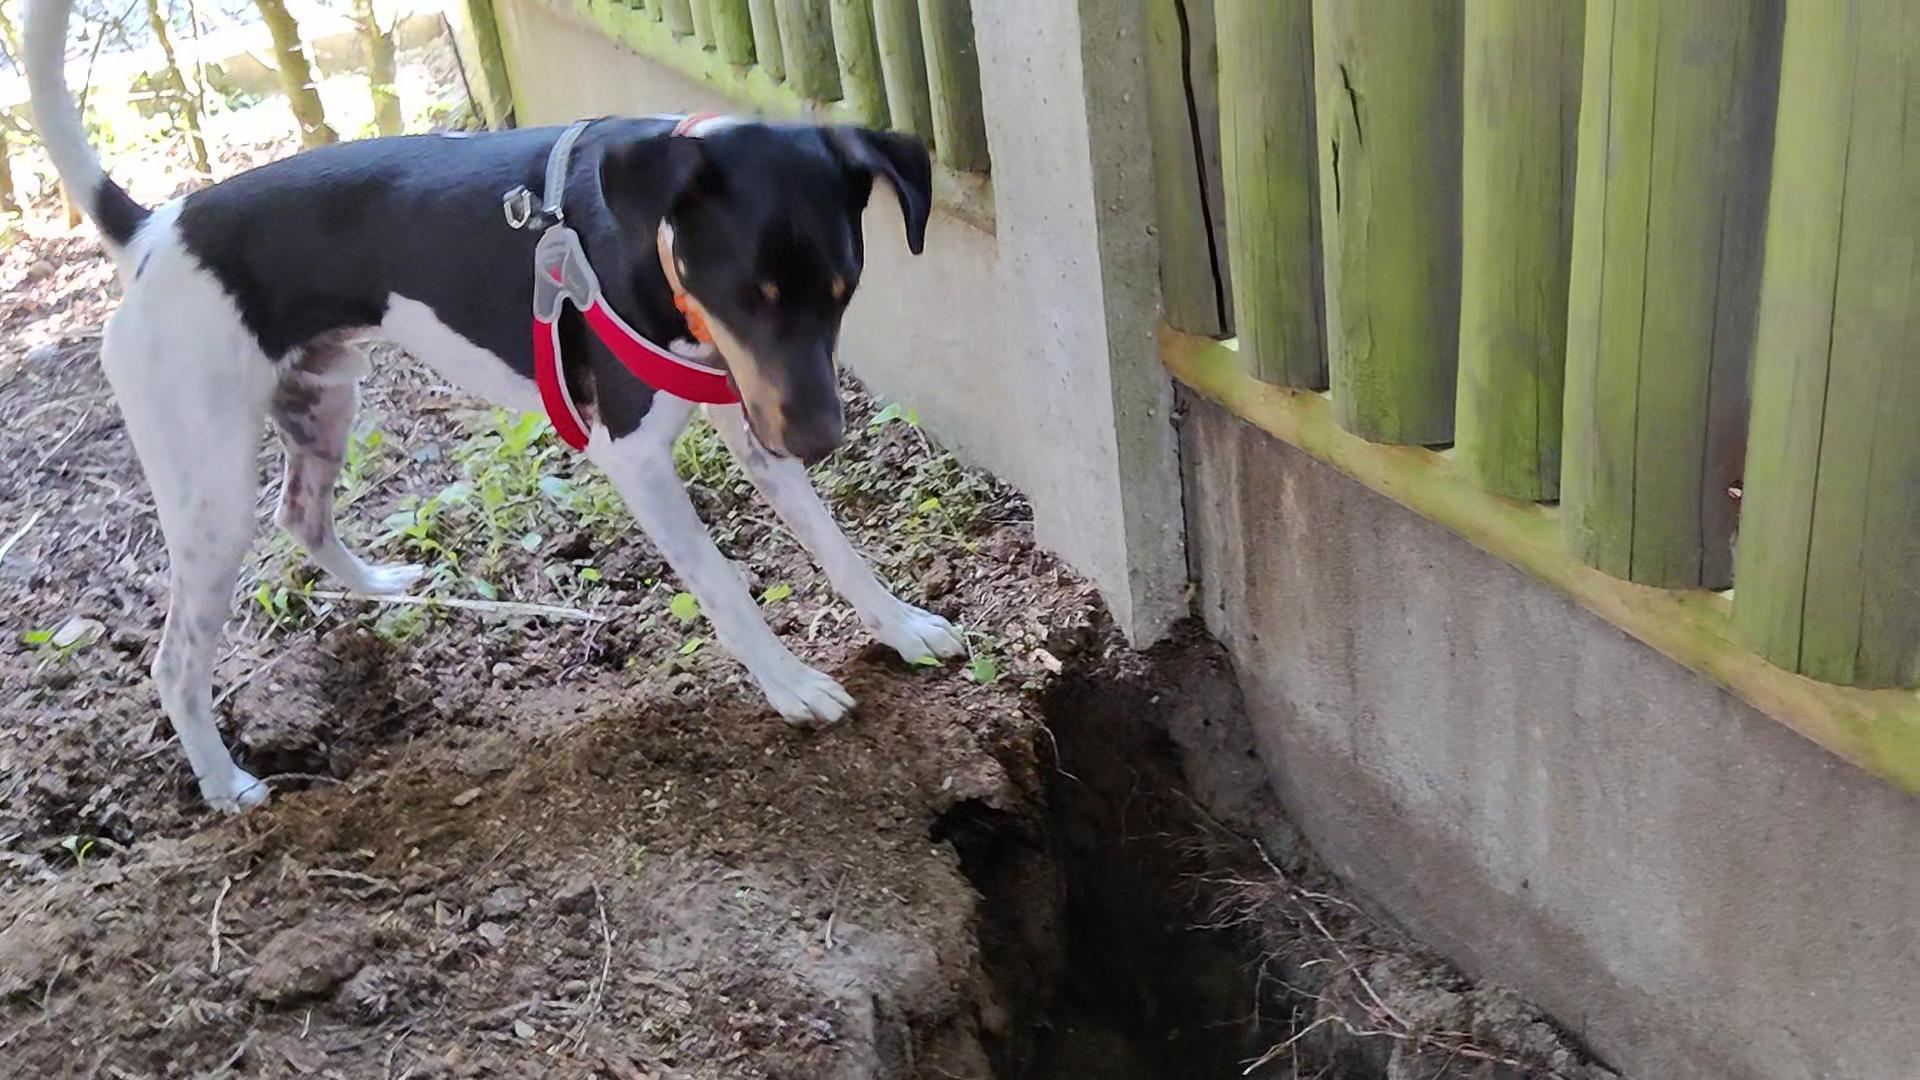Dog: (11, 0, 980, 822)
